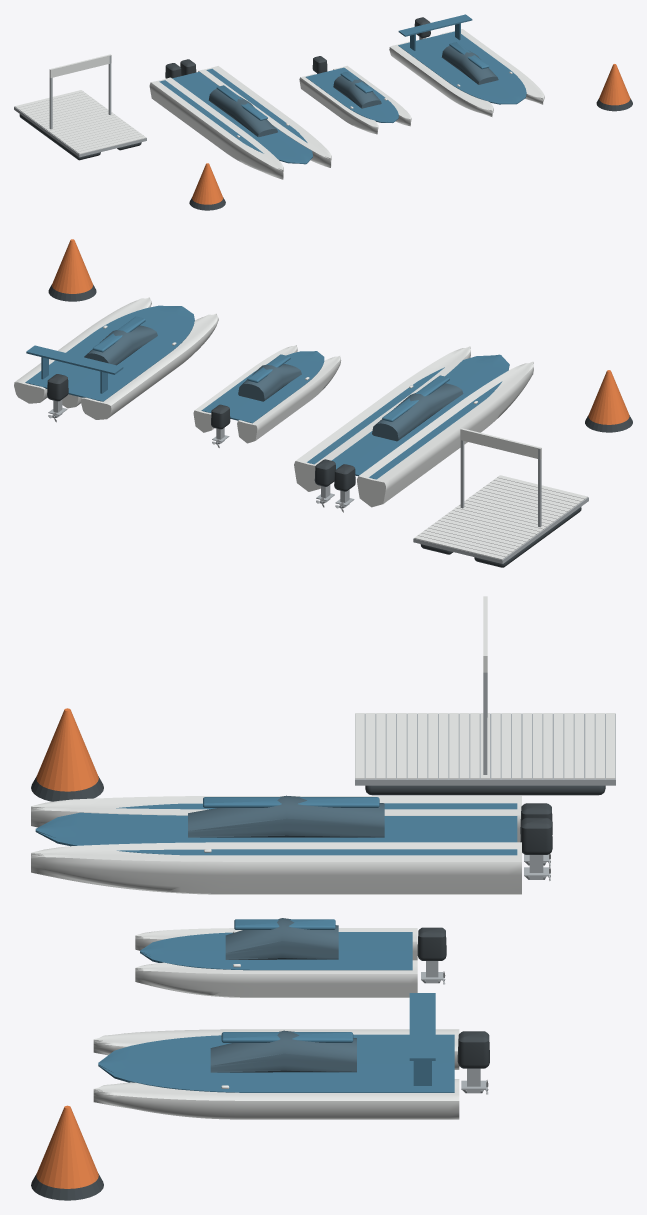
Rendered from powerboat-racing-and-launch-ramp-race-start-e4351c58__22316.glb.
3 renders of one model, top to bottom at view 1: azimuth 30°, elevation 25°; view 2: azimuth 150°, elevation 25°; view 3: azimuth 270°, elevation 25°, orthographic. The views are drawn at different scales.
Visible parts, largest first — view 1: 000-offshore-catamaran-racer/0, 005-start-pontoon/2, 002-hydroplane/1, 000-offshore-catamaran-racer/1, 002-hydroplane/0, 001-tunnel-hull-sprint-boat/1, 001-tunnel-hull-sprint-boat/0, 000-offshore-catamaran-racer/2, 005-start-pontoon/1, 002-hydroplane/2, 004-turn-buoy/1, 003-turn-buoy/1 (+2 smaller); view 2: 000-offshore-catamaran-racer/0, 005-start-pontoon/2, 002-hydroplane/1, 000-offshore-catamaran-racer/1, 002-hydroplane/0, 001-tunnel-hull-sprint-boat/0, 001-tunnel-hull-sprint-boat/1, 000-offshore-catamaran-racer/2, 005-start-pontoon/1, 003-turn-buoy/1, 004-turn-buoy/1, 002-hydroplane/2 (+5 smaller); view 3: 000-offshore-catamaran-racer/0, 005-start-pontoon/2, 002-hydroplane/1, 000-offshore-catamaran-racer/1, 002-hydroplane/0, 001-tunnel-hull-sprint-boat/0, 001-tunnel-hull-sprint-boat/1, 000-offshore-catamaran-racer/2, 005-start-pontoon/1, 002-hydroplane/2, 001-tunnel-hull-sprint-boat/2, 003-turn-buoy/1 (+7 smaller).
Boxes of the visible parts, x1,y1,x2,y2 form: 000-offshore-catamaran-racer/0: (149, 66, 331, 179); 005-start-pontoon/2: (14, 54, 146, 154); 002-hydroplane/1: (398, 14, 526, 104); 000-offshore-catamaran-racer/1: (159, 68, 312, 164); 002-hydroplane/0: (389, 29, 544, 116); 001-tunnel-hull-sprint-boat/1: (305, 67, 398, 122); 001-tunnel-hull-sprint-boat/0: (299, 65, 411, 134); 000-offshore-catamaran-racer/2: (208, 89, 277, 137); 005-start-pontoon/1: (14, 55, 146, 157); 002-hydroplane/2: (441, 46, 498, 84); 004-turn-buoy/1: (599, 64, 630, 105); 003-turn-buoy/1: (192, 163, 223, 204); 000-offshore-catamaran-racer/0: (294, 346, 533, 507); 005-start-pontoon/2: (414, 428, 587, 559); 002-hydroplane/1: (25, 305, 194, 401); 000-offshore-catamaran-racer/1: (307, 354, 509, 479); 002-hydroplane/0: (14, 297, 218, 419); 001-tunnel-hull-sprint-boat/0: (193, 345, 341, 443); 001-tunnel-hull-sprint-boat/1: (201, 351, 324, 423); 000-offshore-catamaran-racer/2: (372, 383, 463, 441); 005-start-pontoon/1: (413, 440, 588, 563); 003-turn-buoy/1: (588, 370, 629, 424); 004-turn-buoy/1: (52, 239, 92, 293); 002-hydroplane/2: (84, 325, 157, 365); 000-offshore-catamaran-racer/0: (31, 796, 521, 894); 005-start-pontoon/2: (355, 596, 615, 779); 002-hydroplane/1: (98, 993, 454, 1092); 000-offshore-catamaran-racer/1: (35, 797, 517, 855); 002-hydroplane/0: (93, 1029, 459, 1119); 001-tunnel-hull-sprint-boat/0: (135, 928, 417, 997); 001-tunnel-hull-sprint-boat/1: (140, 919, 412, 970); 000-offshore-catamaran-racer/2: (188, 795, 384, 837); 005-start-pontoon/1: (355, 672, 615, 785); 002-hydroplane/2: (210, 1030, 356, 1072); 001-tunnel-hull-sprint-boat/2: (225, 918, 338, 959); 003-turn-buoy/1: (36, 708, 98, 791).
Bounding box in the file's own units: 21.2 × 2.95 × 11.2.
